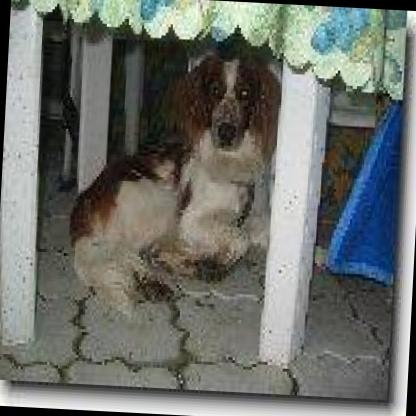Welsh_springer_spaniel: (58, 25, 280, 330)
